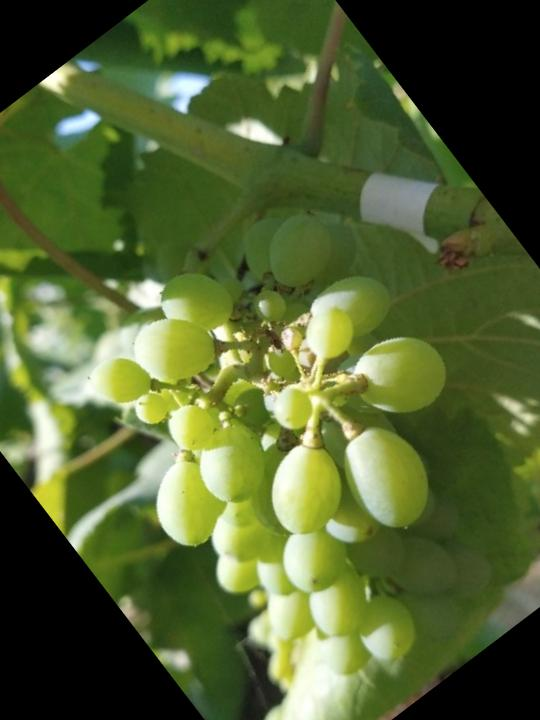grape: (34, 155, 540, 720)
